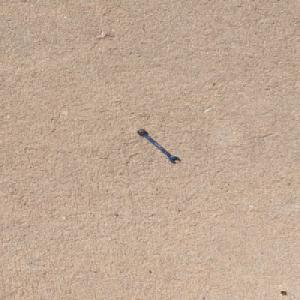Wrench: (136, 128, 181, 163)
